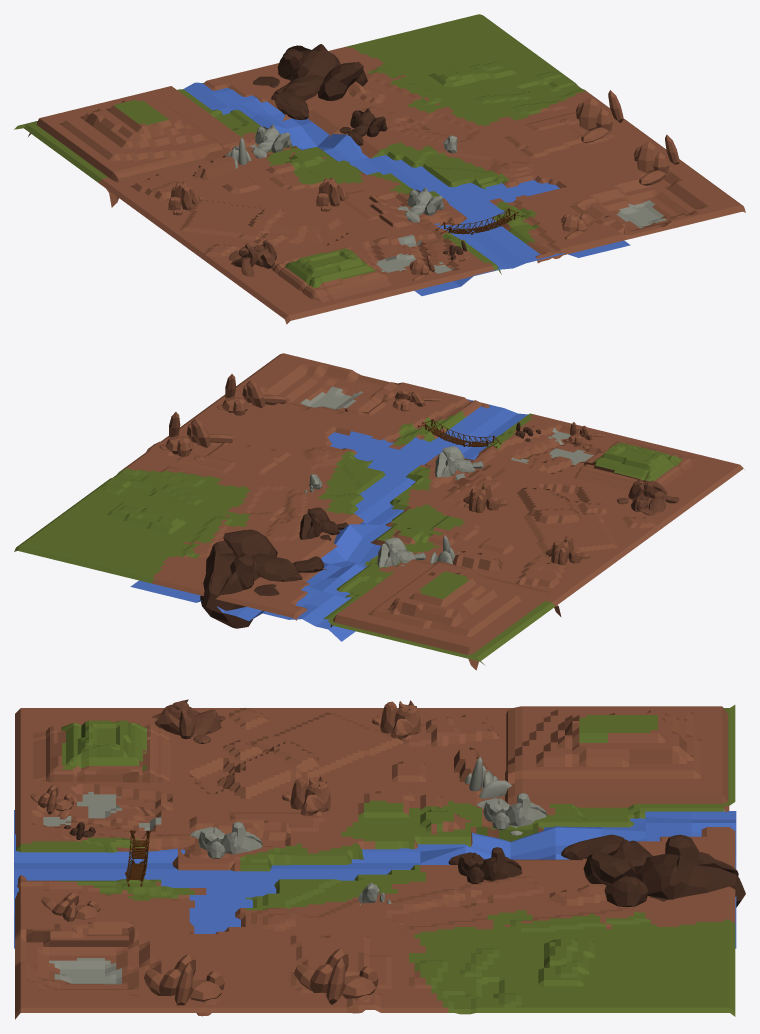
File: Crete3.fbx
3 views of the same model, one above another, from view 1: azimuth 30°, elevation 25°; view 2: azimuth 150°, elevation 25°; view 3: azimuth 270°, elevation 25° (orthographic). The views are drawn at different scales.
Parts seen in each view (by area): view 1: Plane.003, Plane.005, Plane.004, Cube.022, Cube.017, Cube.015, Cube.001, Cube.021, Cube.003, Cube.010, Cube.009, Cube.011 (+2 smaller); view 2: Plane.003, Plane.004, Plane.005, Cube.022, Cube.017, Cube.015, Cube.001, Cube.021, Cube.003, Cube.010, Cube.009, Cube.011 (+2 smaller); view 3: Plane.003, Plane.005, Plane.004, Cube.022, Cube.017, Cube.015, Cube.001, Cube.021, Cube.010, Cube.003, Cube.009, Cube.011 (+4 smaller).
Boxes of the visible parts, x1,y1,x2,y2 form: Plane.003: [14, 14, 745, 324]; Plane.005: [28, 86, 252, 207]; Plane.004: [183, 82, 630, 295]; Cube.022: [253, 44, 367, 119]; Cube.017: [560, 90, 623, 142]; Cube.015: [634, 134, 679, 185]; Cube.001: [229, 240, 276, 276]; Cube.021: [339, 108, 387, 145]; Cube.003: [397, 187, 444, 222]; Cube.010: [250, 124, 291, 158]; Cube.009: [316, 177, 347, 211]; Cube.011: [168, 181, 199, 215]; Plane.003: [14, 353, 744, 665]; Plane.004: [130, 399, 527, 641]; Plane.005: [330, 559, 561, 670]; Cube.022: [200, 529, 324, 628]; Cube.017: [159, 412, 236, 460]; Cube.015: [217, 374, 290, 415]; Cube.001: [617, 479, 679, 515]; Cube.021: [299, 507, 347, 540]; Cube.003: [434, 446, 483, 480]; Cube.010: [371, 537, 426, 567]; Cube.009: [463, 483, 507, 512]; Cube.011: [545, 536, 589, 565]; Plane.003: [15, 705, 735, 1019]; Plane.005: [505, 706, 729, 811]; Plane.004: [14, 810, 736, 948]; Cube.022: [561, 834, 745, 907]; Cube.017: [294, 948, 378, 1013]; Cube.015: [144, 953, 224, 1016]; Cube.001: [152, 699, 225, 743]; Cube.021: [448, 847, 522, 883]; Cube.010: [476, 793, 546, 835]; Cube.003: [190, 822, 262, 858]; Cube.009: [282, 776, 330, 816]; Cube.011: [372, 700, 420, 740].
Bounding box in the file's own units: 488 × 69.9 × 488.
